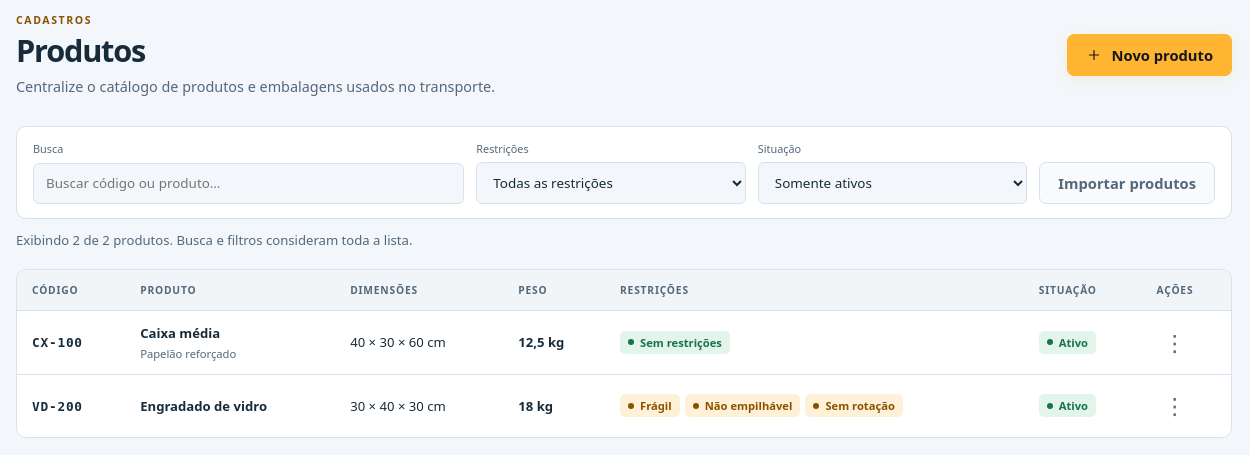
Test: ProductListPage › filtra por restrição
Expected: the text "CX-100" is shown, [32,335,83,350]
Select "Com restrição" in the dropdown named "Filtrar por restrição": (611, 183) [476,162,746,204]
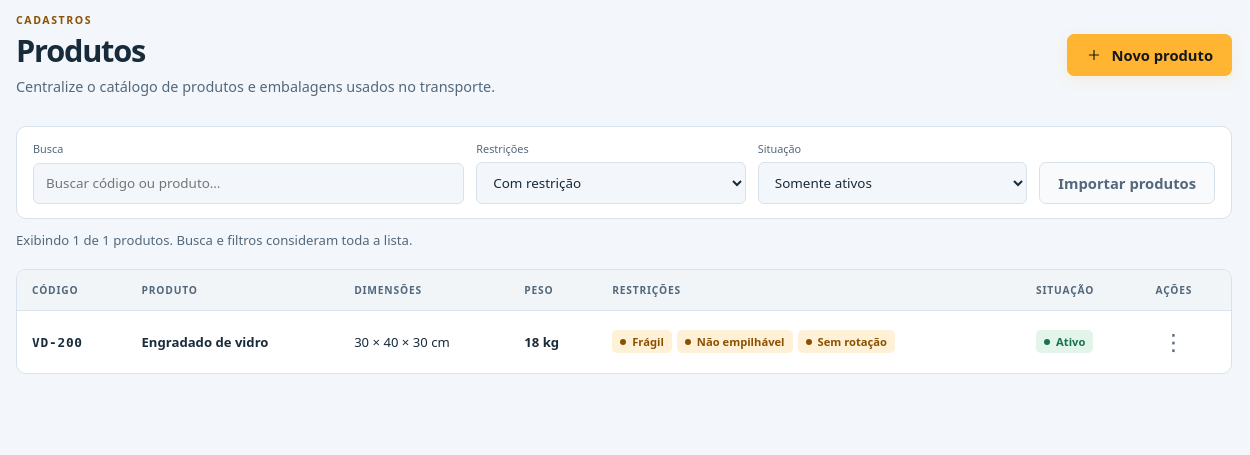
Expected: the text "VD-200" is shown, [32,335,83,350]
Expected: the text "CX-100" is gone
